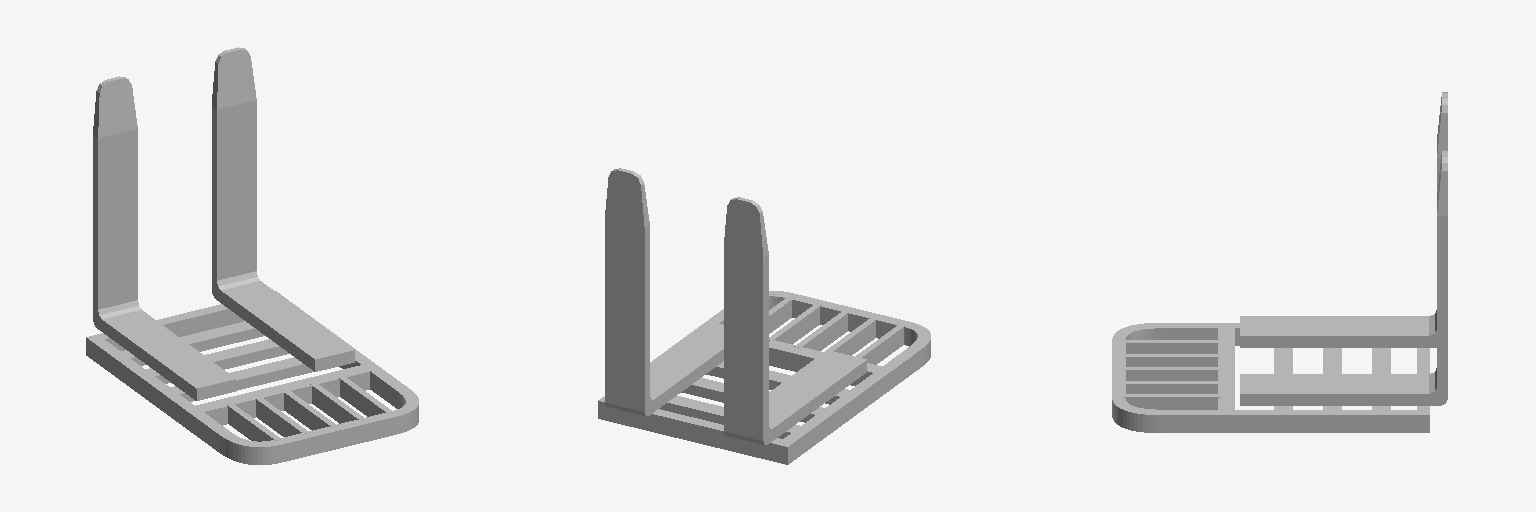
Rendered from forkpos.obj.
3 renders of one model, left to right at view 1: azimuth 30°, elevation 25°; view 2: azimuth 150°, elevation 25°; view 3: azimuth 270°, elevation 25°, orthographic.
Visible parts, largest first — view 1: Cube.9; view 2: Cube.9; view 3: Cube.9.
Boxes of the visible parts, <box> form: Cube.9: <box>86,47,418,464</box>; Cube.9: <box>598,168,930,464</box>; Cube.9: <box>1112,92,1447,432</box>.
Bounding box in the file's own units: 0.9061 × 1.2 × 1.39.